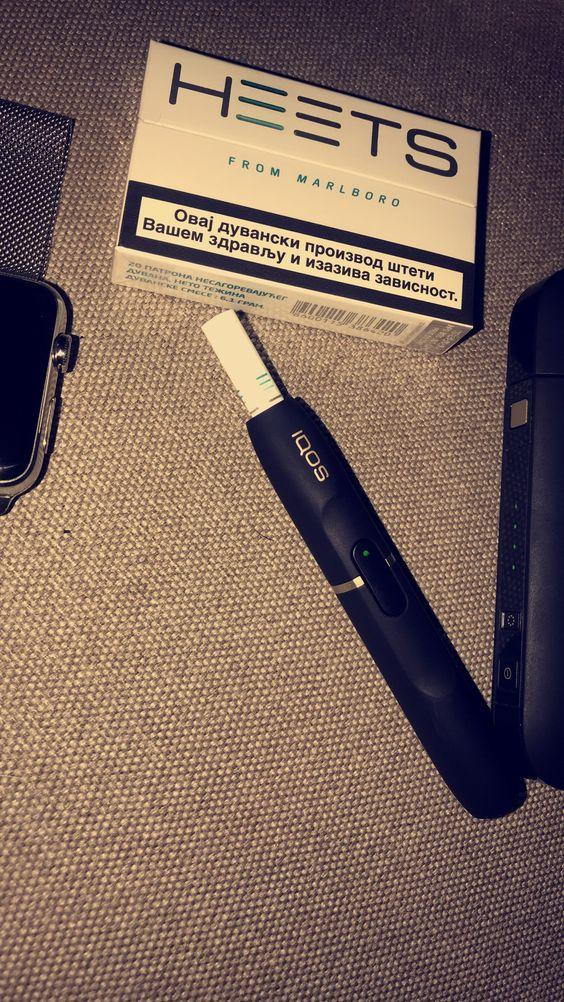iqos: (203, 311, 525, 818)
